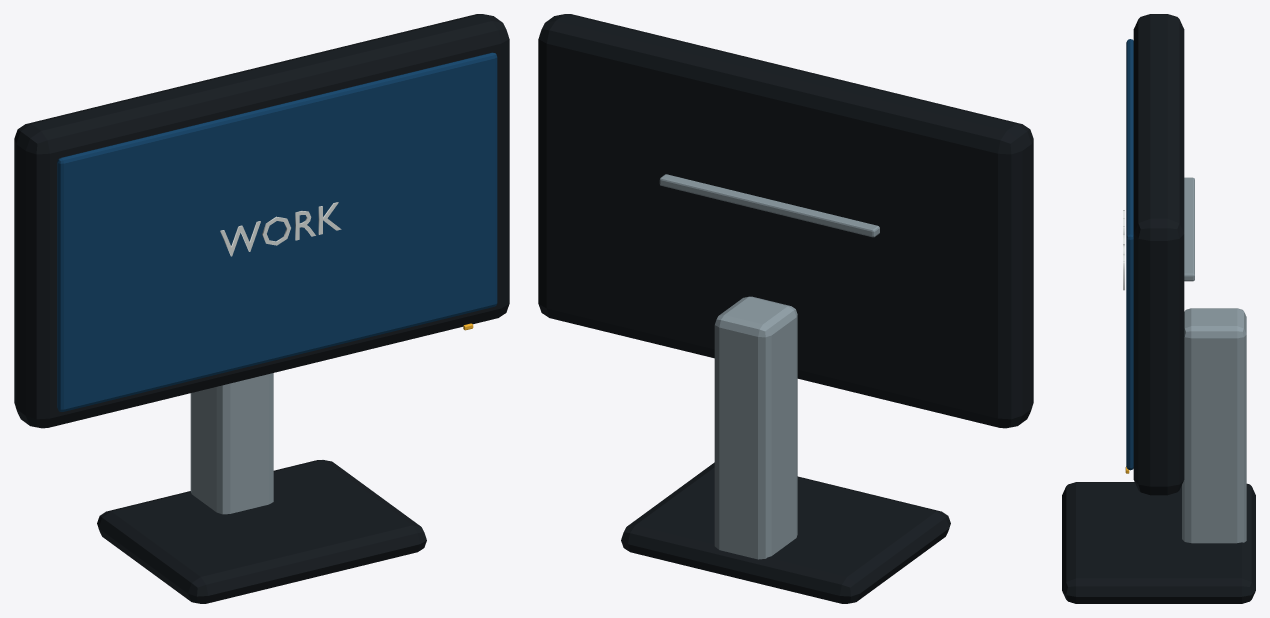
The model's file is edited.glb.
The picture shows the model from 3 angles, left to right: view 1: azimuth 30°, elevation 25°; view 2: azimuth 150°, elevation 25°; view 3: azimuth 270°, elevation 25°; orthographic projection. The views are drawn at different scales.
Parts seen in each view (by area): view 1: DISPLAY_Screen, DISPLAY_Housing, BASE_Foot, STAND_Column, SCREEN_Placeholder; view 2: DISPLAY_Housing, BASE_Foot, STAND_Column, VENT_Rear.001; view 3: DISPLAY_Housing, BASE_Foot, STAND_Column, DISPLAY_Screen, VENT_Rear.001, VENT_Rear.
Part boxes in pixels (x1,y1,x2,y2): DISPLAY_Screen: [57, 52, 497, 411]; DISPLAY_Housing: [14, 14, 509, 428]; BASE_Foot: [97, 460, 426, 603]; STAND_Column: [190, 373, 273, 514]; SCREEN_Placeholder: [220, 202, 341, 256]; DISPLAY_Housing: [538, 14, 1033, 428]; BASE_Foot: [621, 462, 950, 603]; STAND_Column: [714, 296, 797, 559]; VENT_Rear.001: [659, 176, 877, 237]; DISPLAY_Housing: [1133, 14, 1184, 495]; BASE_Foot: [1062, 482, 1255, 603]; STAND_Column: [1182, 308, 1246, 543]; DISPLAY_Screen: [1126, 39, 1133, 470]; VENT_Rear.001: [1188, 177, 1194, 281]; VENT_Rear: [1184, 177, 1188, 281].
Size of the model in its own units: 0.56 by 0.525 by 0.21.
